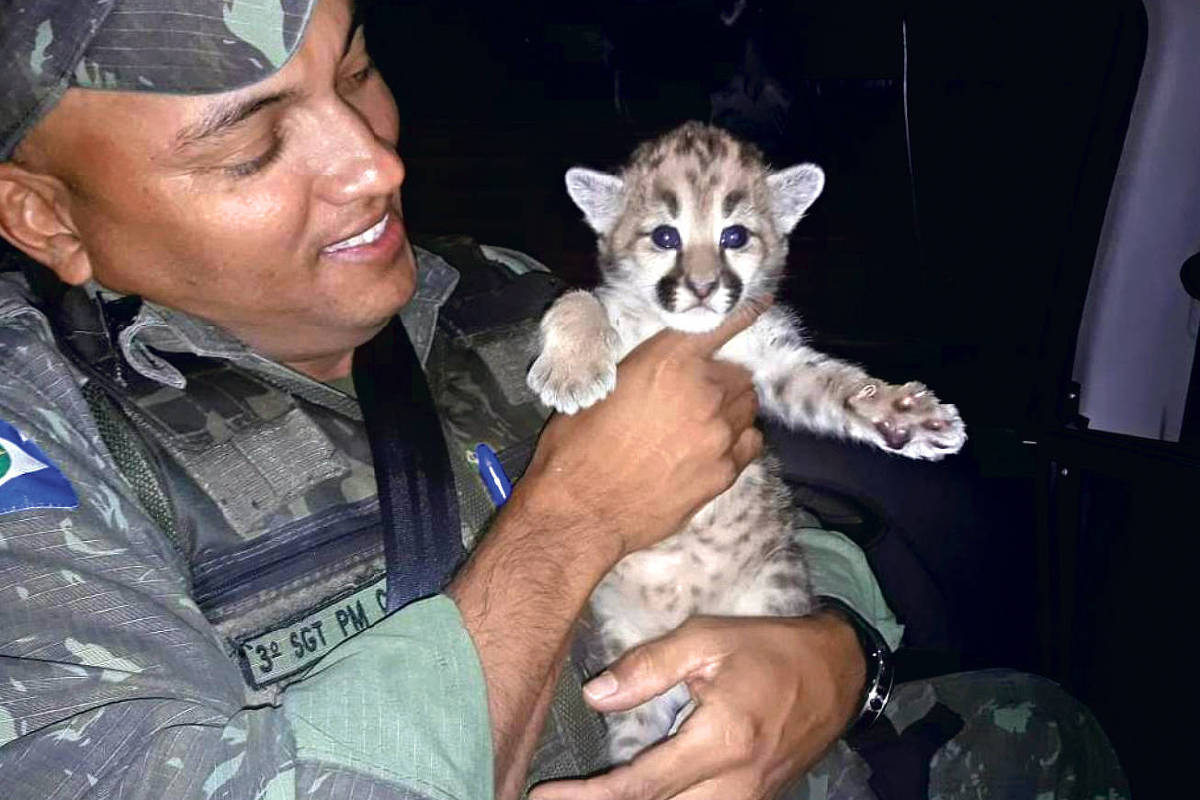OncaParda: (549, 120, 960, 723)
